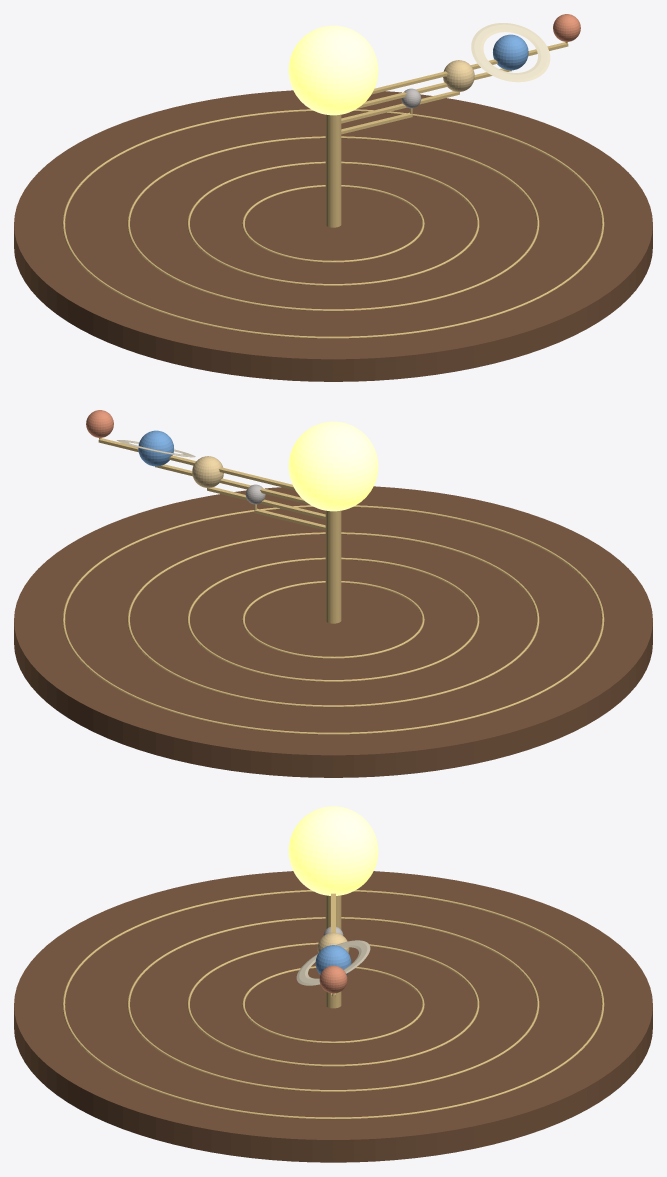
File: orrery.glb
3 renders of one model, top to bottom at view 1: azimuth 30°, elevation 25°; view 2: azimuth 150°, elevation 25°; view 3: azimuth 270°, elevation 25°, orthographic.
Parts seen in each view (by area): view 1: Walnut base, The Sun, Orbit ring 4, Orbit ring 3, Ring band, Brass spindle, Orbit ring 2, Orbit ring 1, Planet 3, Planet 2, Arm 4, Planet 4 (+2 smaller); view 2: Walnut base, The Sun, Orbit ring 4, Orbit ring 3, Brass spindle, Orbit ring 2, Orbit ring 1, Planet 3, Arm 4, Planet 2, Planet 4, Arm 3 (+1 smaller); view 3: Walnut base, The Sun, Orbit ring 4, Orbit ring 3, Orbit ring 2, Orbit ring 1, Ring band, Planet 3, Brass spindle, Planet 4.
Part boxes in pixels (x1,y1,x2,y2): Walnut base: (14,90,652,381); The Sun: (288,25,378,115); Orbit ring 4: (62,109,604,338); Orbit ring 3: (127,136,539,311); Ring band: (471,23,550,82); Brass spindle: (325,114,341,227); Orbit ring 2: (187,161,479,285); Orbit ring 1: (242,185,424,262); Planet 3: (493,34,528,70); Planet 2: (443,60,474,91); Arm 4: (371,42,568,94); Planet 4: (553,14,580,41); Walnut base: (14,486,652,777); The Sun: (288,421,378,511); Orbit ring 4: (62,505,604,734); Orbit ring 3: (127,532,539,707); Brass spindle: (325,510,341,623); Orbit ring 2: (187,557,479,681); Orbit ring 1: (242,581,424,658); Planet 3: (138,430,173,466); Arm 4: (98,438,295,490); Planet 2: (192,456,223,487); Planet 4: (86,410,113,437); Arm 3: (155,464,309,504); Walnut base: (14,871,652,1162); The Sun: (288,806,378,895); Orbit ring 4: (62,890,604,1119); Orbit ring 3: (127,917,539,1091); Orbit ring 2: (187,942,479,1066); Orbit ring 1: (242,966,424,1043); Ring band: (296,940,370,985); Planet 3: (315,945,351,974); Brass spindle: (325,895,341,1008); Planet 4: (319,965,347,993).
Size of the model in its own units: 6.4 by 2.4 by 6.4.
